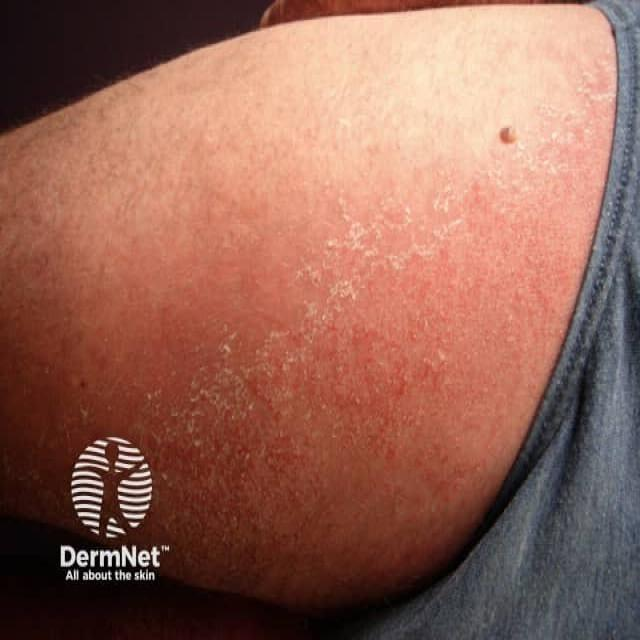Eczema: (109, 53, 613, 551)
